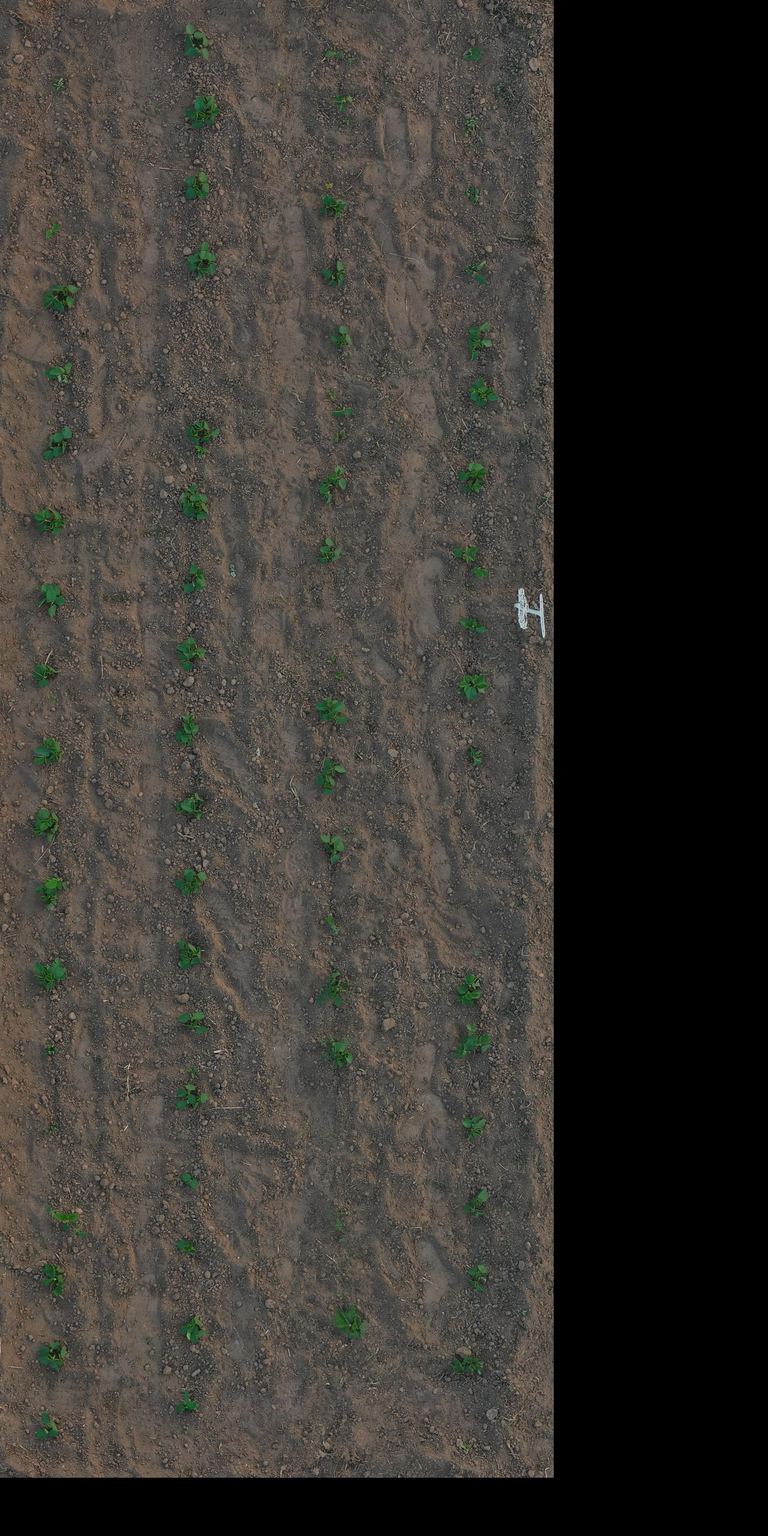s: (44, 1205, 88, 1238), (185, 96, 206, 121), (467, 1033, 492, 1053), (459, 618, 488, 634), (453, 1038, 476, 1058), (34, 738, 58, 757), (459, 676, 478, 700), (330, 465, 348, 490), (453, 546, 478, 564), (319, 701, 344, 719), (38, 809, 58, 831), (44, 971, 67, 990), (37, 1353, 60, 1372), (31, 664, 49, 688), (178, 951, 202, 969), (180, 802, 204, 820), (44, 367, 69, 384), (456, 983, 481, 1000), (467, 1118, 486, 1140), (334, 1042, 353, 1064), (206, 94, 221, 121), (316, 774, 335, 795), (180, 484, 198, 506), (189, 564, 206, 587), (47, 957, 64, 980), (51, 296, 75, 312), (183, 868, 207, 884), (458, 462, 478, 481), (180, 724, 200, 743), (41, 1412, 60, 1432), (332, 1309, 352, 1328), (185, 175, 200, 200), (466, 1189, 488, 1206), (469, 332, 492, 348), (477, 386, 500, 402), (174, 871, 193, 890), (333, 94, 353, 112), (34, 512, 52, 532), (176, 651, 193, 672), (50, 584, 66, 606), (174, 800, 196, 816), (466, 1264, 488, 1280), (315, 551, 342, 564), (191, 114, 214, 129), (316, 696, 339, 711), (44, 875, 67, 890), (33, 962, 48, 985), (329, 840, 344, 863), (37, 1341, 60, 1356), (48, 362, 72, 376), (177, 1012, 205, 1024), (183, 1389, 199, 1410), (186, 1314, 202, 1335), (50, 1273, 64, 1297), (187, 261, 209, 276), (461, 479, 483, 494), (463, 1203, 485, 1218), (42, 1263, 64, 1278), (51, 284, 78, 296), (42, 290, 60, 308), (60, 427, 72, 454), (184, 493, 201, 512), (175, 729, 194, 746), (471, 674, 488, 693), (39, 893, 58, 910), (186, 24, 206, 40), (191, 419, 211, 435), (176, 1094, 196, 1110), (38, 584, 51, 608), (322, 712, 348, 724), (468, 321, 490, 335), (470, 391, 488, 408), (469, 268, 488, 284), (43, 436, 55, 461), (200, 428, 220, 443), (330, 405, 355, 417), (331, 334, 351, 349), (180, 714, 195, 734), (177, 1239, 197, 1254), (181, 882, 202, 896), (46, 589, 56, 618), (322, 269, 338, 287), (472, 463, 488, 481), (182, 647, 206, 659), (192, 1092, 208, 1110), (52, 432, 63, 458), (49, 740, 62, 762), (462, 1024, 477, 1043), (338, 326, 352, 346), (469, 746, 483, 766), (32, 817, 46, 837), (176, 1084, 196, 1098), (468, 339, 480, 362), (183, 581, 204, 594), (461, 1115, 482, 1128), (318, 474, 335, 490), (181, 1173, 198, 1189), (177, 638, 196, 652), (198, 36, 209, 60), (198, 171, 210, 193), (336, 260, 346, 286), (40, 664, 60, 677), (182, 1024, 208, 1034), (52, 512, 68, 528), (457, 990, 473, 1006), (319, 546, 342, 557), (184, 33, 196, 54), (186, 426, 200, 444), (195, 494, 209, 512), (178, 939, 190, 960), (44, 522, 63, 535), (177, 1401, 196, 1414), (180, 1323, 199, 1336), (36, 1428, 58, 1439), (319, 488, 334, 504), (469, 378, 484, 394), (465, 974, 480, 990), (333, 201, 347, 218), (188, 942, 201, 960), (320, 834, 341, 845), (58, 1345, 68, 1368), (185, 792, 204, 804), (321, 768, 346, 777), (45, 223, 59, 239), (190, 1330, 206, 1344), (320, 195, 330, 217), (322, 758, 344, 768), (47, 822, 58, 842), (206, 256, 217, 275), (472, 565, 488, 578), (452, 1356, 465, 1372), (469, 1280, 486, 1292), (32, 754, 52, 764), (329, 992, 344, 1005), (348, 1315, 361, 1330), (184, 512, 207, 520), (184, 46, 199, 58), (466, 1355, 484, 1365), (187, 256, 209, 264), (40, 1276, 57, 1286), (53, 77, 65, 91), (471, 260, 486, 271), (329, 970, 340, 985), (202, 94, 212, 109), (199, 241, 209, 256), (333, 1049, 343, 1064), (192, 190, 208, 199), (464, 53, 482, 61), (34, 884, 48, 894), (325, 50, 344, 57), (331, 980, 342, 992), (325, 775, 336, 787), (323, 914, 334, 925), (329, 199, 343, 207), (330, 925, 342, 934), (325, 537, 334, 548), (468, 47, 481, 54), (332, 1060, 343, 1068), (324, 843, 331, 854), (48, 1048, 59, 1055), (464, 128, 472, 137), (466, 187, 474, 196), (46, 1044, 58, 1050), (51, 1122, 59, 1131), (474, 188, 479, 202), (464, 265, 470, 276), (468, 116, 476, 124), (44, 1048, 52, 1056), (466, 120, 475, 127), (45, 1126, 53, 1133)
